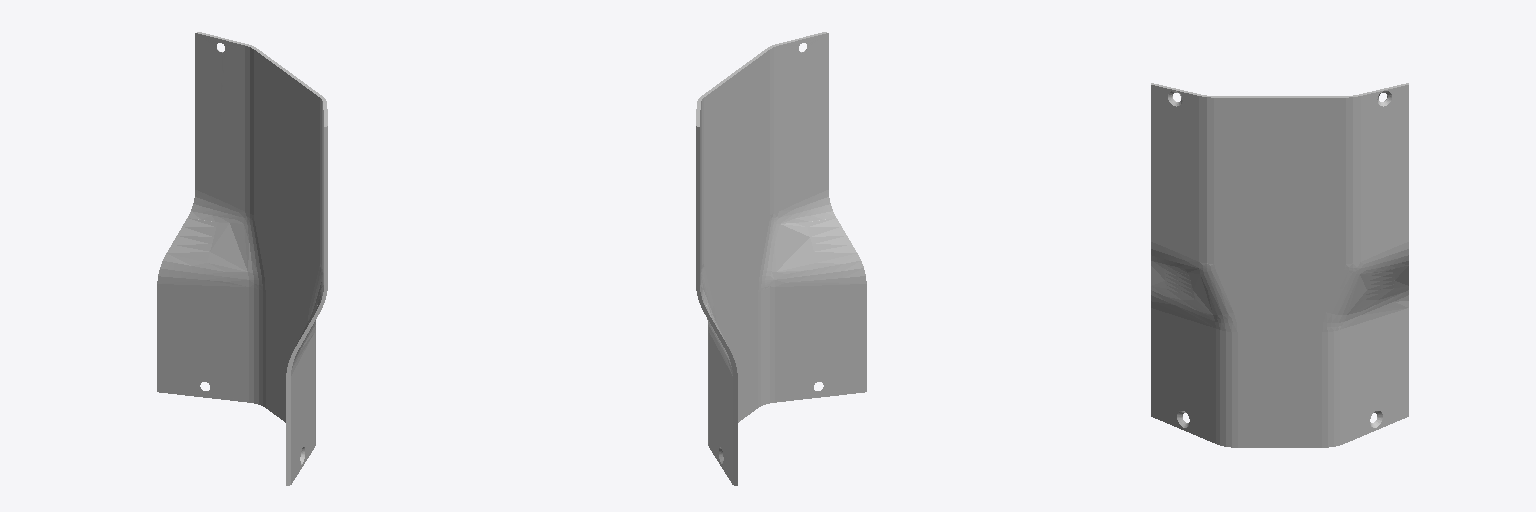
File: chassis_left.obj
3 renders of one model, left to right at view 1: azimuth 30°, elevation 25°; view 2: azimuth 150°, elevation 25°; view 3: azimuth 270°, elevation 25°, orthographic.
Visible parts, largest first — view 1: left; view 2: left; view 3: left.
Part boxes in pixels (left/top/right/bottom): left: left=157, top=32, right=327, bottom=485; left: left=696, top=32, right=866, bottom=485; left: left=1151, top=83, right=1408, bottom=447.
Bounding box in the file's own units: 0.0259 × 0.126 × 0.084.